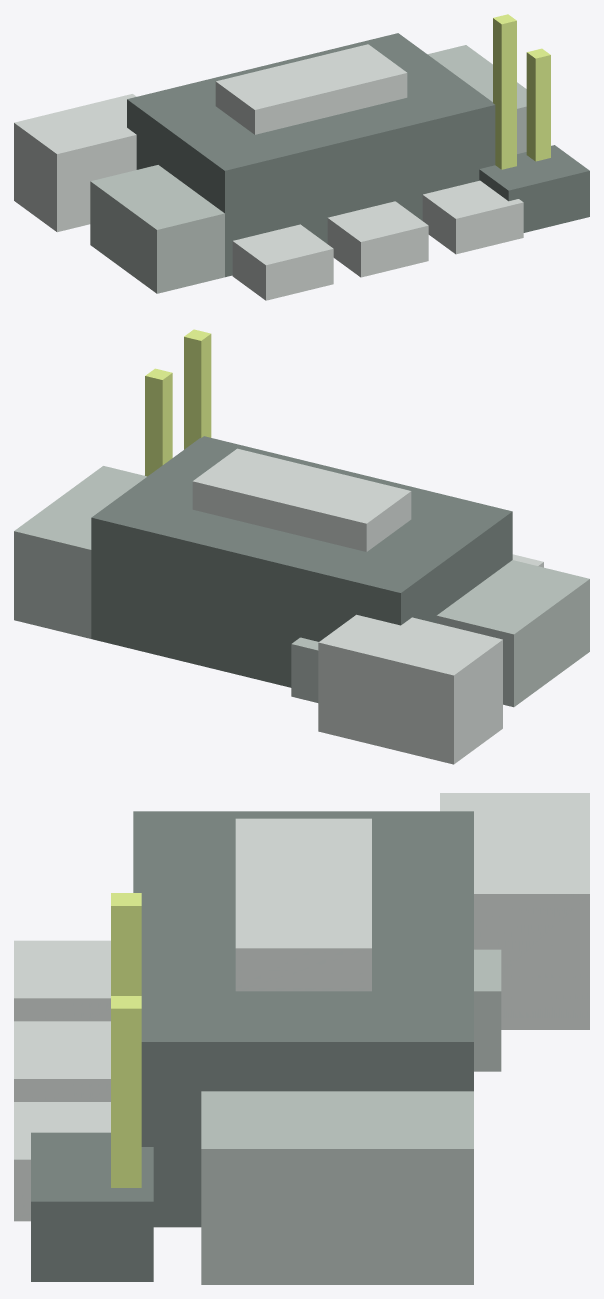
File: factory.gltf
The picture shows the model from 3 angles, top to bottom: view 1: azimuth 30°, elevation 25°; view 2: azimuth 150°, elevation 25°; view 3: azimuth 270°, elevation 25°; orthographic projection. The views are drawn at different scales.
Parts seen in each view (by area): view 1: Main hall, West annex, Office, Roof monitor, Loading bay A, Utility block, Loading bay B, Loading bay C, Stack A, Stack B, East annex; view 2: Main hall, Office, Roof monitor, West annex, East annex, Stack A, Stack B, Connector; view 3: Main hall, East annex, Office, Roof monitor, Utility block, Loading bay A, Loading bay B, Stack B, Loading bay C, Connector, Stack A.
Part boxes in pixels (x1,y1,x2,y2): Main hall: (127,33,495,277); West annex: (90,165,224,293); Office: (14,94,136,232); Roof monitor: (215,44,407,134); Loading bay A: (232,224,333,300); Utility block: (479,145,589,232); Loading bay B: (327,201,428,277); Loading bay C: (422,180,523,254); Stack A: (493,14,516,169); Stack B: (526,48,550,161); East annex: (428,45,526,153); Main hall: (91,436,512,687); Office: (318,614,502,764); Roof monitor: (192,448,411,551); West annex: (436,560,589,707); East annex: (14,466,146,638); Stack A: (184,329,211,449); Stack B: (145,368,172,476); Connector: (291,637,318,702); Main hall: (133,811,473,1227); East annex: (201,1091,473,1284); Office: (440,793,589,1029); Roof monitor: (235,818,371,991); Utility block: (31,1132,153,1281); Loading bay A: (14,940,110,1021); Loading bay B: (14,1021,110,1101); Stack B: (111,996,141,1187); Loading bay C: (14,1102,110,1221); Connector: (474,949,501,1071); Stack A: (111,893,141,995).
Bounding box in the file's own units: 12.35 × 5.4 × 8.45.
